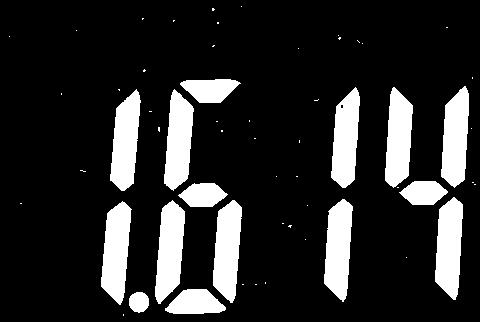1: (95, 88, 144, 307), (323, 87, 362, 303)
4: (377, 85, 476, 301)
6: (154, 77, 246, 317)
dot: (128, 288, 151, 313)
